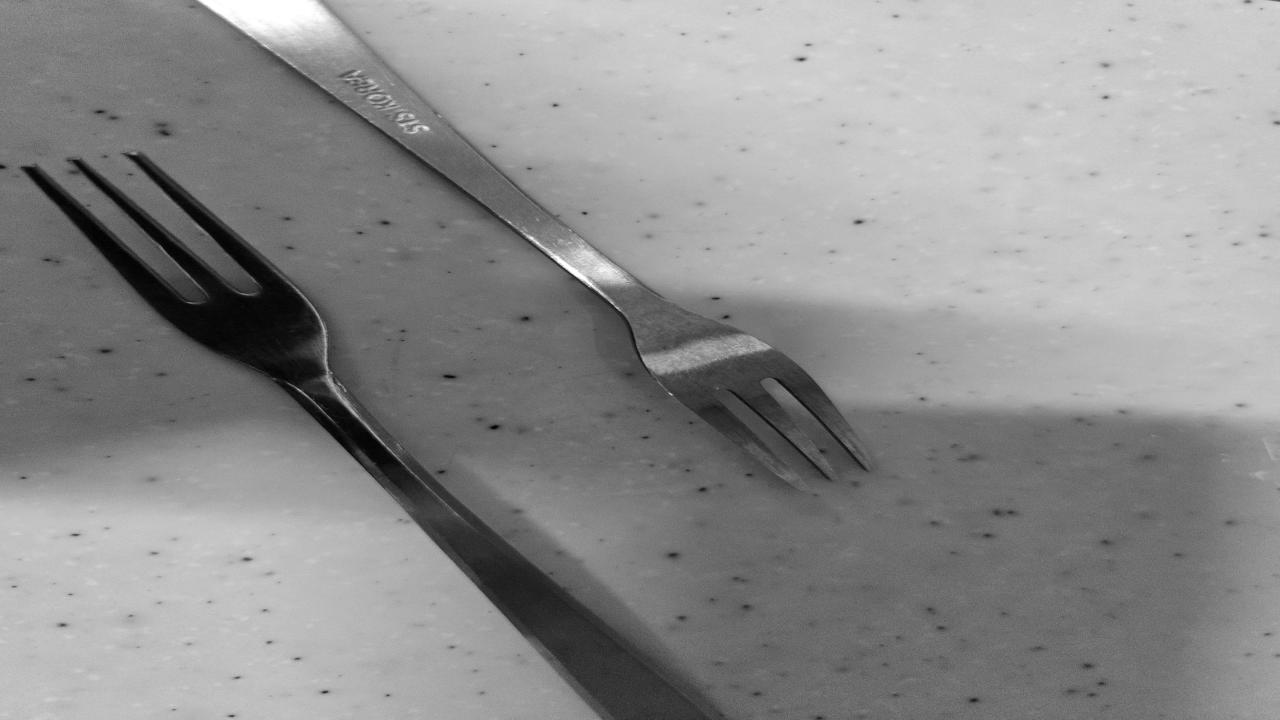fork: (20, 158, 731, 720), (192, 3, 872, 495)
